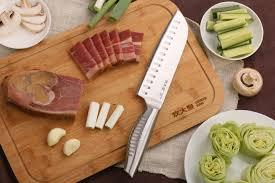Knife: (123, 7, 188, 177)
